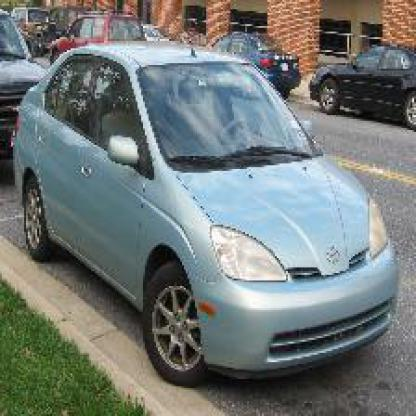not_emergency: (7, 44, 410, 366)
